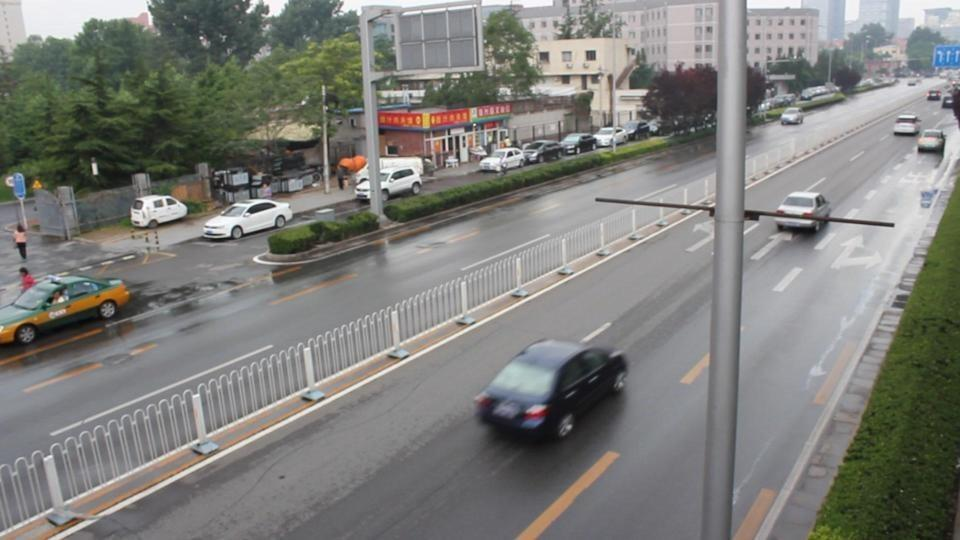car: (474, 338, 629, 444), (1, 274, 133, 346), (201, 199, 292, 242), (354, 165, 423, 202), (774, 192, 832, 235), (128, 193, 187, 228), (478, 149, 526, 174), (520, 140, 567, 165), (559, 132, 598, 155), (797, 84, 843, 103), (593, 126, 628, 149), (915, 129, 946, 154), (892, 114, 922, 136), (621, 121, 656, 139), (781, 109, 804, 126), (926, 85, 943, 102)
